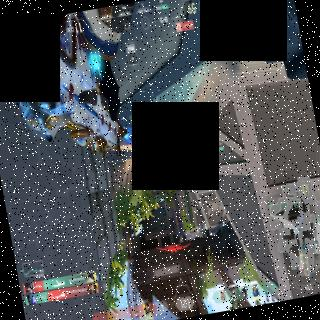ENEMY-BODY: (148, 152, 159, 172)
ENEMY-HEAD: (154, 168, 156, 172)
